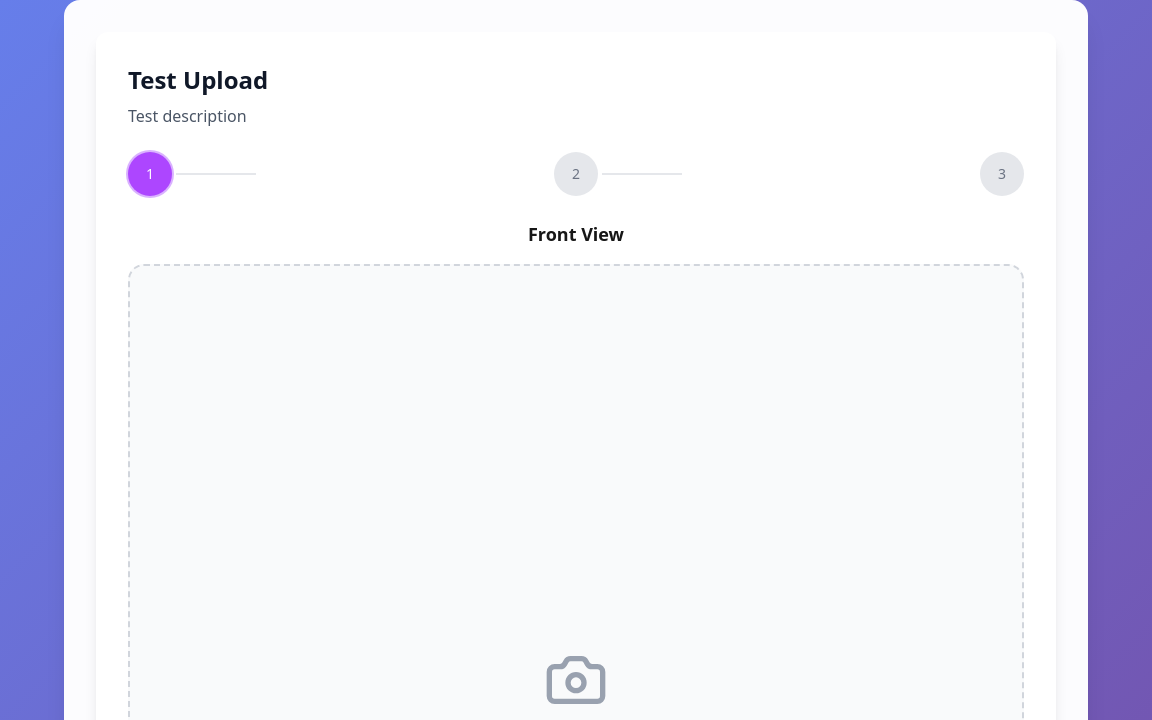
it: MobilePhotoUpload › should show complete button on last view
The image size is (1152, 720).
Navigate to last view (step 3 - back)
Click the button named "Step 3: back view": (1002, 174) x1=980 y1=152 x2=1024 y2=196
(page scrolled)
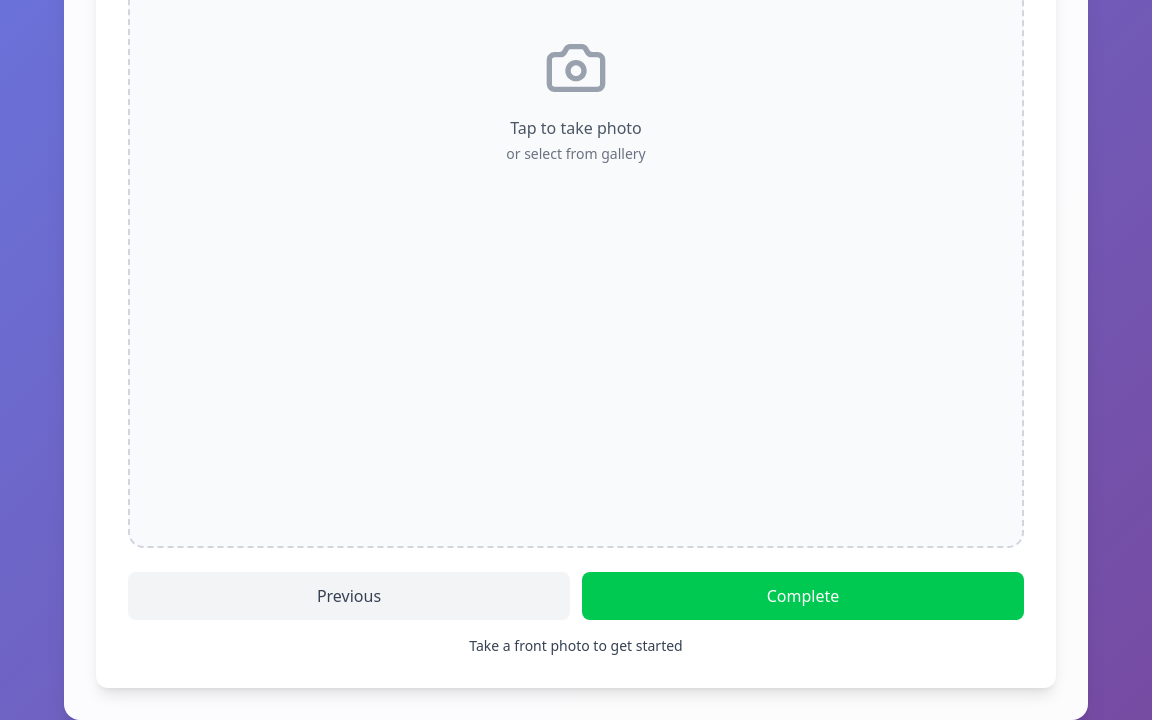
Expected: the button "Complete" is shown, x1=582 y1=572 x2=1024 y2=620
